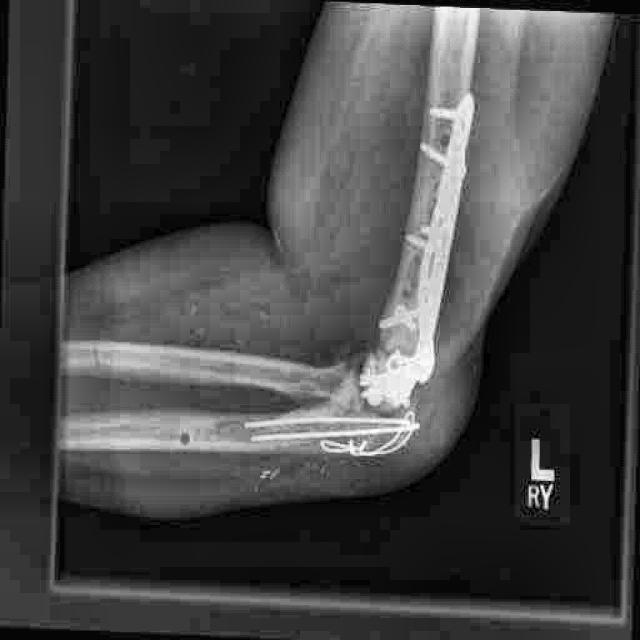elbow positive: (385, 183, 446, 319), (363, 327, 427, 408)
